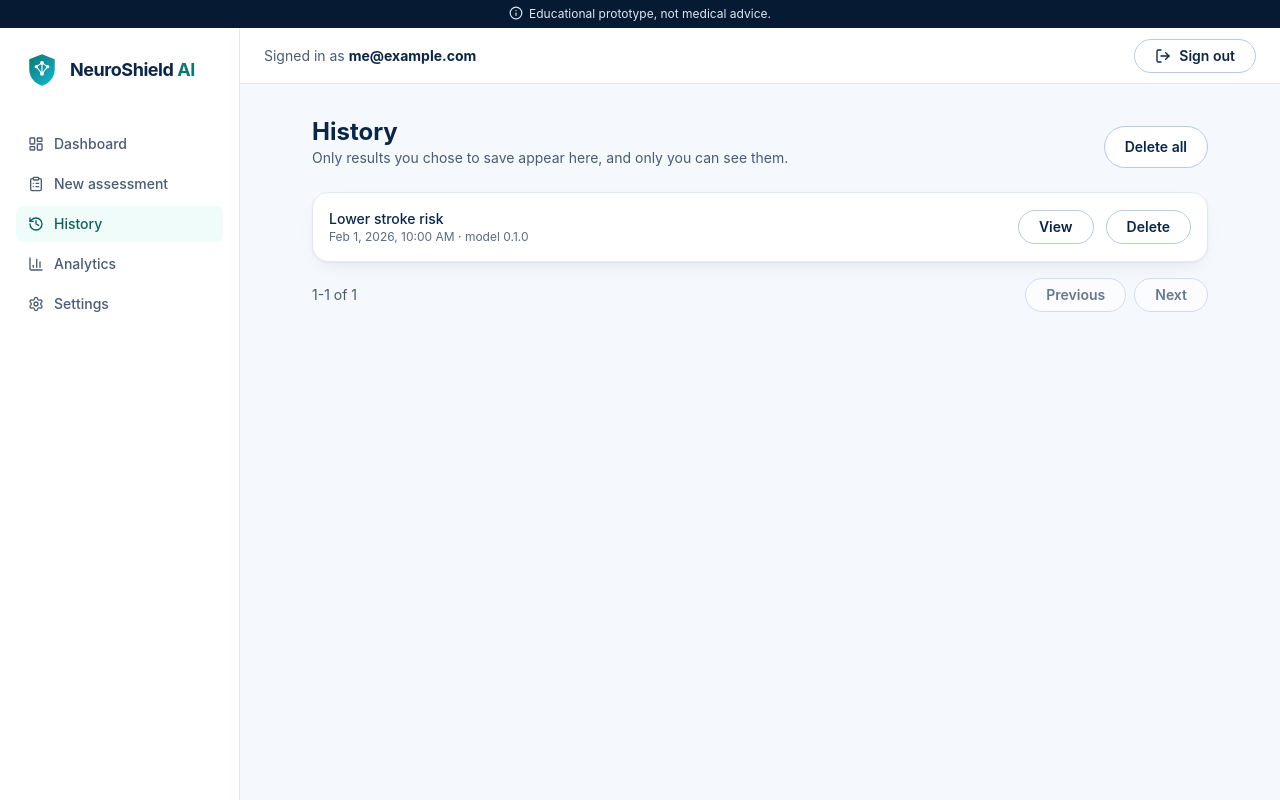
history › deletes everything only after a second confirming click
Click the button "Delete all".
click(1156, 147)  # box [1104, 126, 1208, 168]
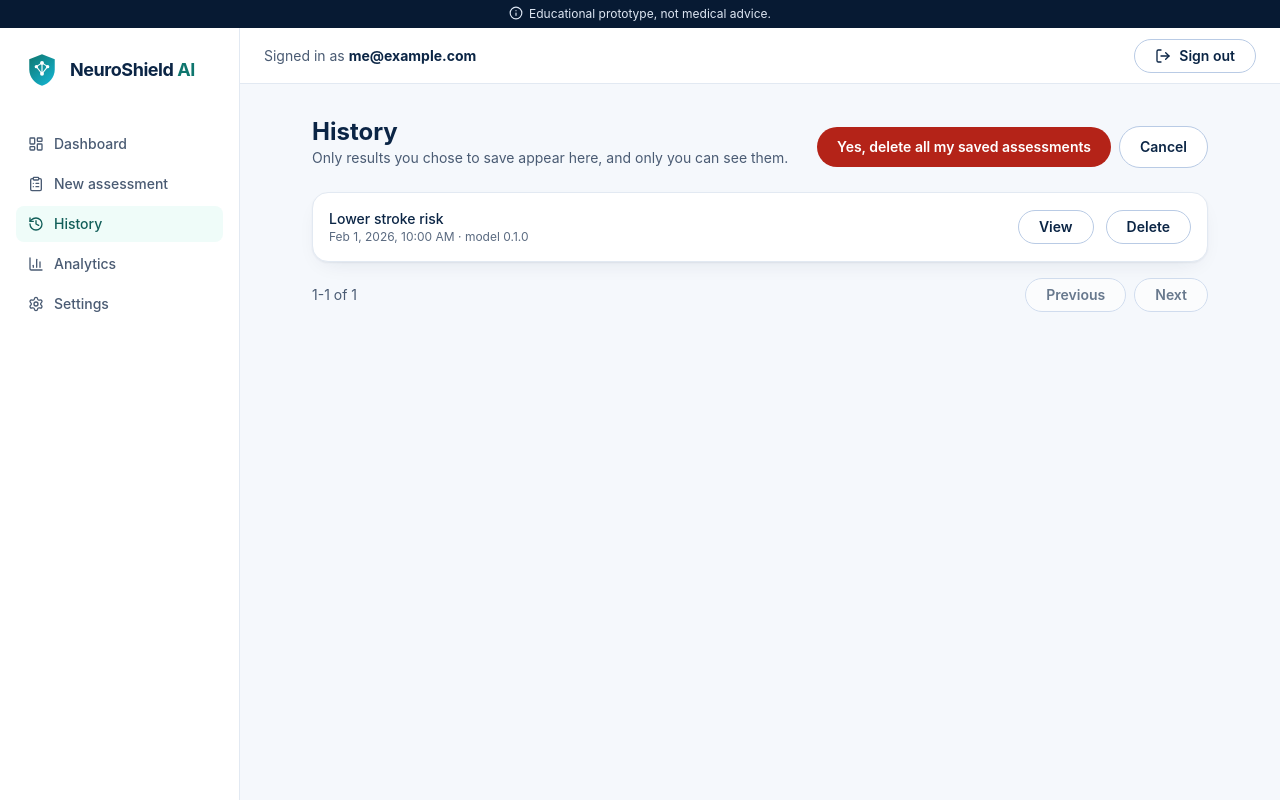
Click the button "Yes, delete all my saved assessments".
click(964, 147)  # box [817, 127, 1111, 167]
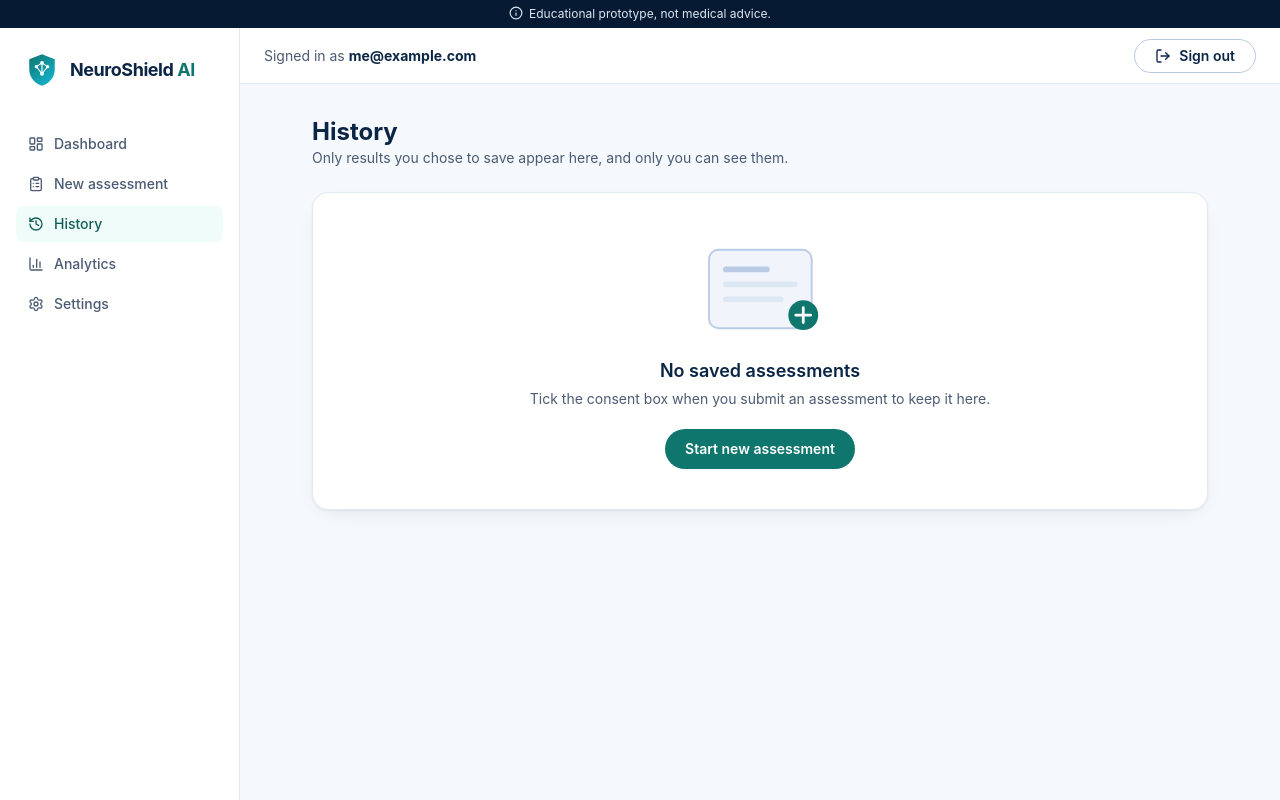
Expected: the heading "No saved assessments" is shown, [660, 360, 860, 381]
